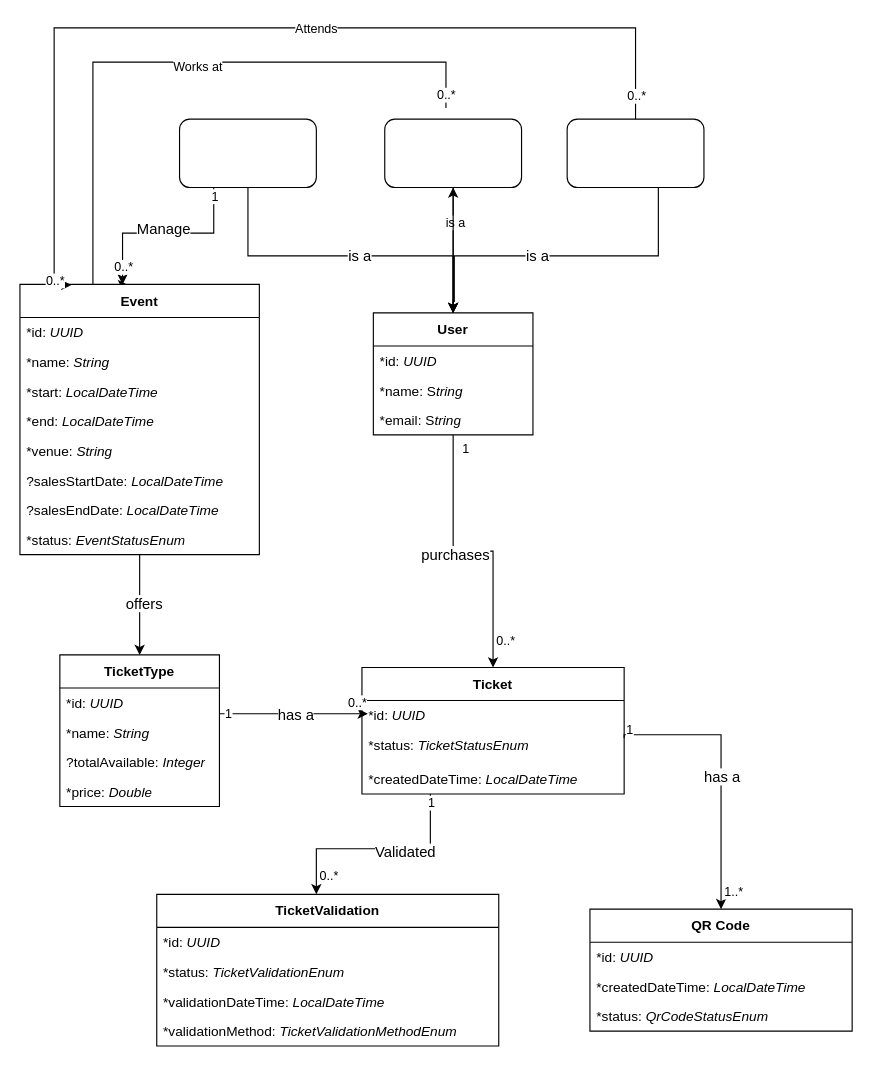
The diagram is 872 pixels wide and 1069 high, and some of its shapes have lost their labels. The shapes that lost their labels are listed below. From the top down, each one's centre as x and y in pixels, then its label:
At point (247, 153): "Organizer".
At point (453, 153): "Staff".
At point (635, 153): "Attendee".
